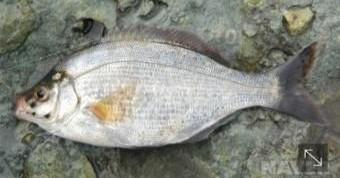fish: (14, 25, 328, 149)
